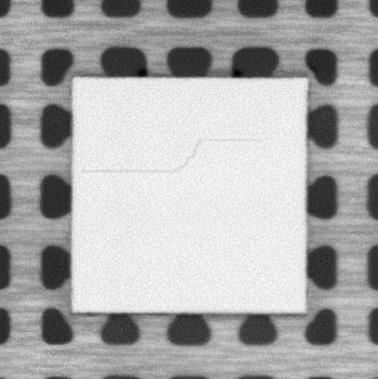DIE_CRACK: (79, 134, 262, 177)
